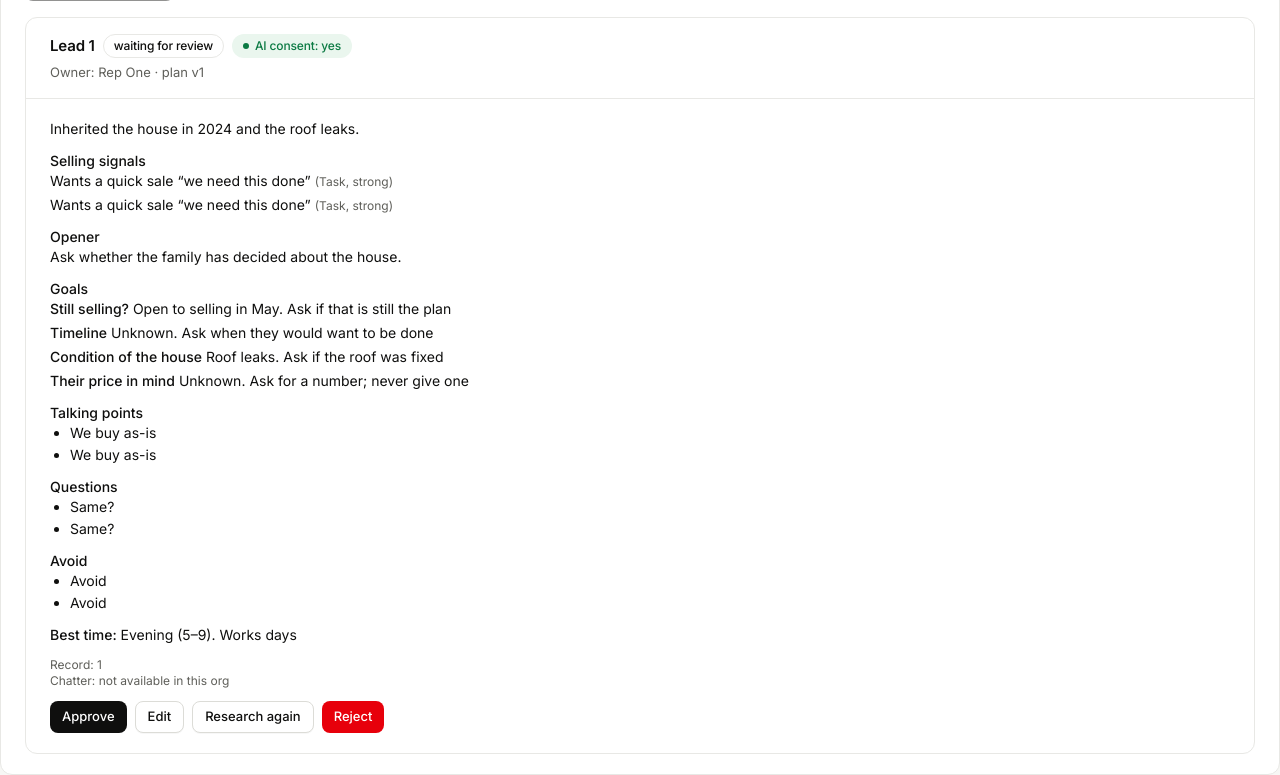
Test: CallPlanBoard › M-9: repeated text in the lists and the selling signals renders every line, with no duplicate-key warning
(page scrolled)
Expected: the number of list items "We buy as-is" is 2, [70,424,156,441]; [70,446,156,463]
Expected: the number of list items "Same?" is 2, [70,498,114,515]; [70,520,114,537]
Step 1. Click the button "Edit" → x=159, y=717, box [134,701,184,733]
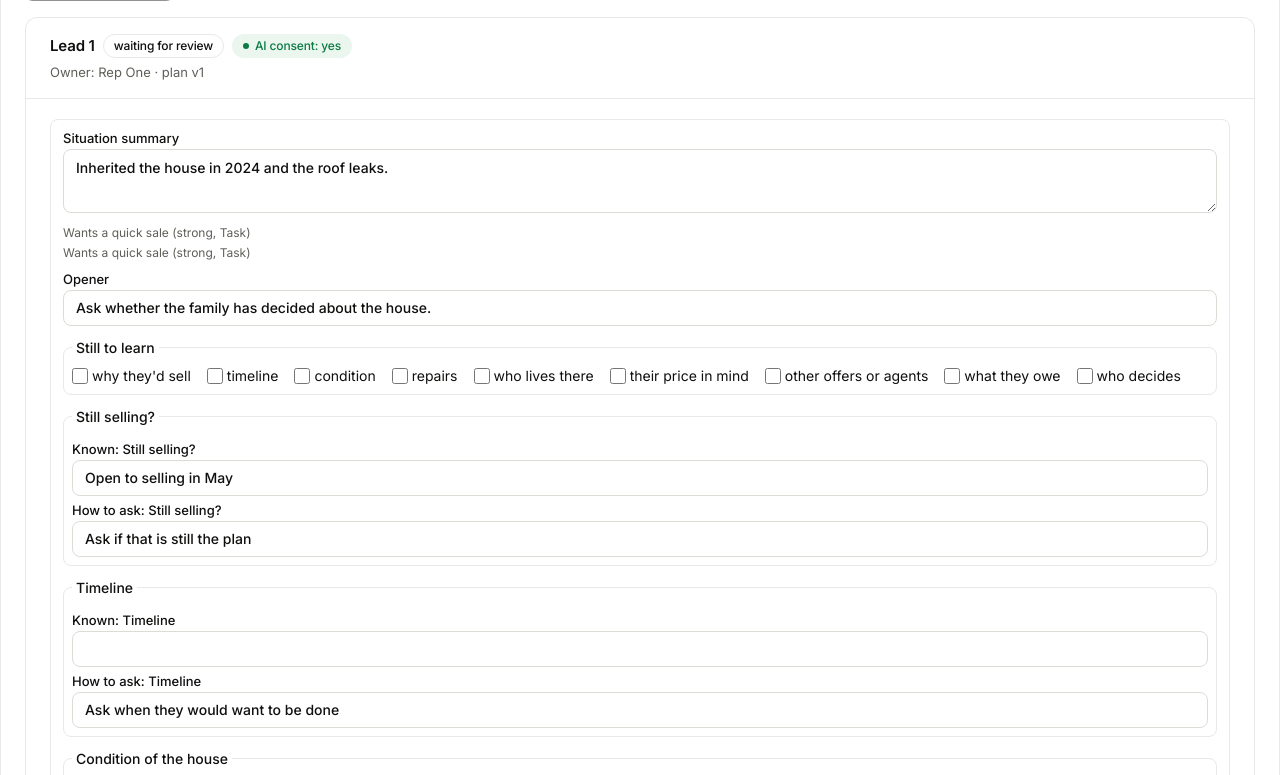
Expected: the 1st list item "Wants a quick sale (strong, Task)" is shown, [63,225,251,240]
